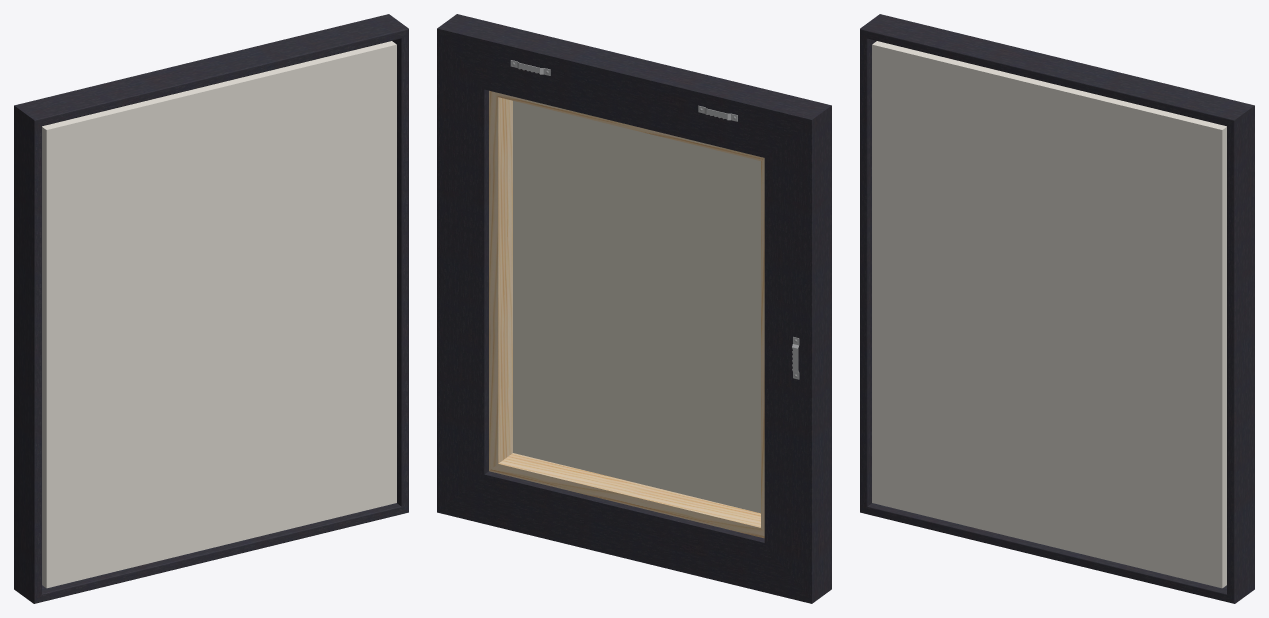
File: delivery.glb
3 renders of one model, left to right at view 1: azimuth 30°, elevation 25°; view 2: azimuth 150°, elevation 25°; view 3: azimuth 330°, elevation 25°, orthographic.
Parts seen in each view (by area): view 1: Canvas artwork front, Tray approved profile 0; view 2: Tray approved profile 0, Canvas linen reverse, Stretcher top, Sawtooth hanger 0; view 3: Canvas artwork front, Tray approved profile 0.
Part boxes in pixels (x1,y1,x2,y2): Canvas artwork front: (42,41,396,588); Tray approved profile 0: (14,14,408,603); Tray approved profile 0: (437,14,831,603); Canvas linen reverse: (513,101,760,513); Stretcher top: (489,90,764,538); Sawtooth hanger 0: (510,60,799,379); Canvas artwork front: (872,41,1226,588); Tray approved profile 0: (860,14,1254,603).
Bounding box in the file's own units: 0.428 × 0.528 × 0.0424.
7 materials, 3 textured.
